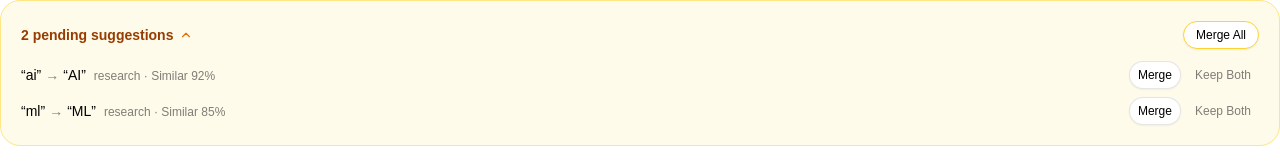
Test: PendingSuggestions › toggles collapse on header click
Expected: the button "Merge" in the row of "Similar 92%" is shown, top-left (1129, 61), bottom-right (1181, 89)
Click the button "2 pending suggestions": click(97, 35) top-left (21, 25), bottom-right (1183, 45)
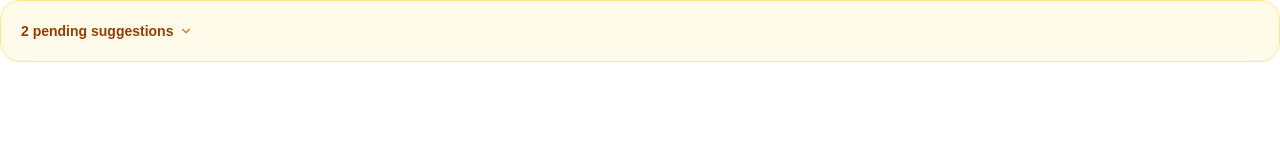
Result: the button "Merge" is gone
